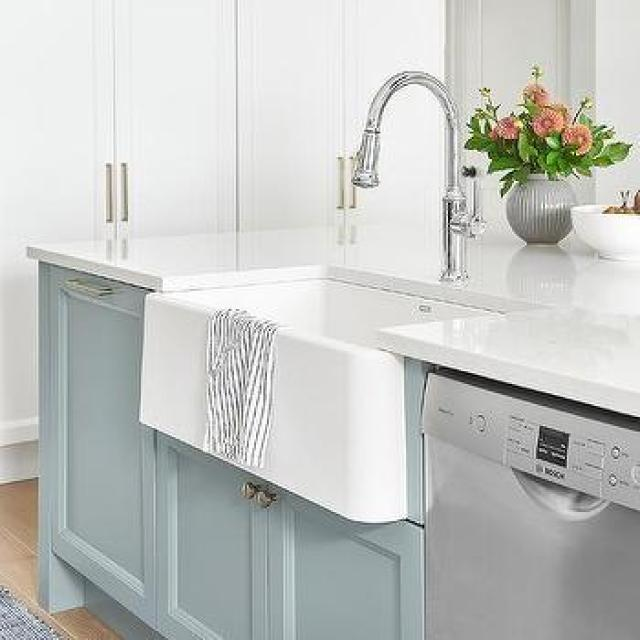dishwasher: (414, 352, 640, 640)
